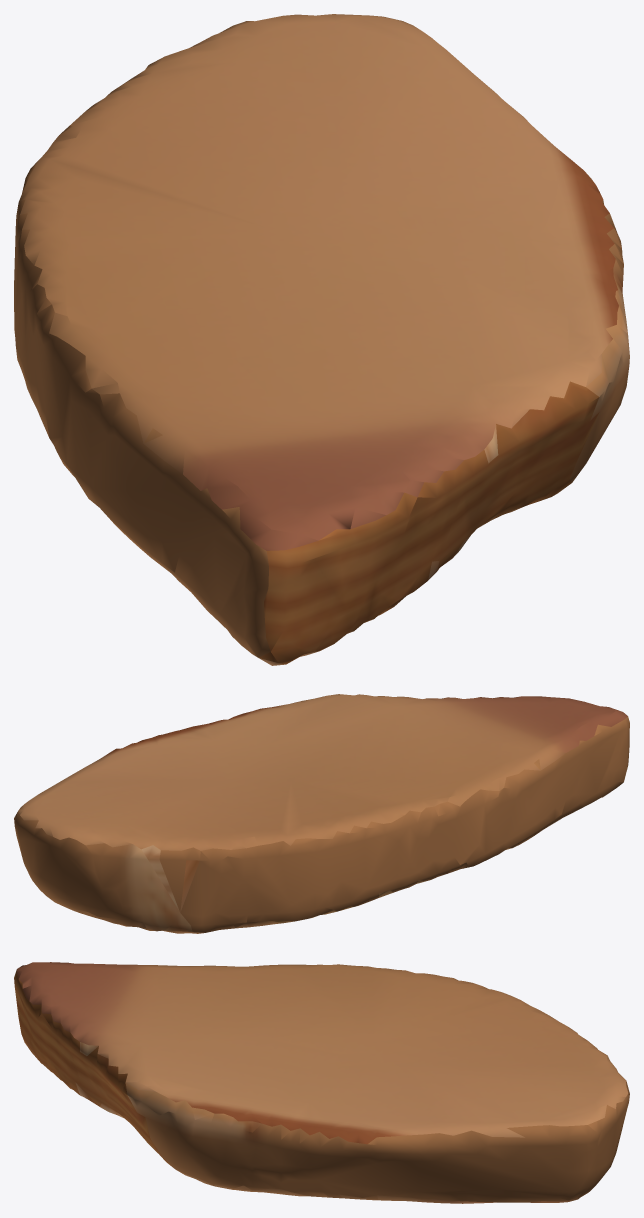
The model's file is Glacier_board12.fbx.
3 renders of one model, top to bottom at view 1: azimuth 30°, elevation 25°; view 2: azimuth 150°, elevation 25°; view 3: azimuth 270°, elevation 25°, orthographic. The views are drawn at different scales.
Parts seen in each view (by area): view 1: material_0; view 2: material_0; view 3: material_0.
Part boxes in pixels (x1,y1,x2,y2): material_0: (14, 14, 629, 665); material_0: (14, 694, 629, 933); material_0: (14, 962, 629, 1203).
Bounding box in the file's own units: 0.1566 × 0.0467 × 0.2223.
